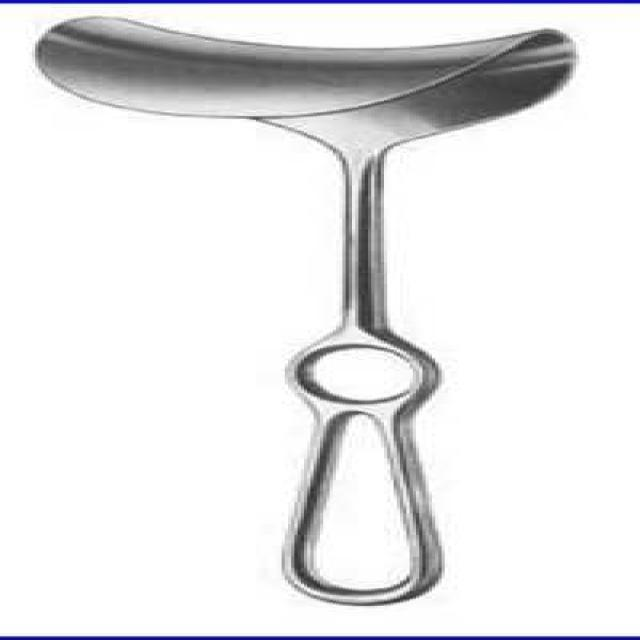Morris Retractor: (35, 11, 588, 596)
